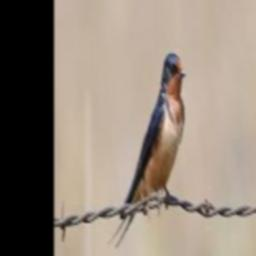Swallow: (108, 53, 186, 246)
